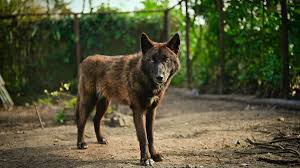Lobo: (63, 35, 196, 159)
